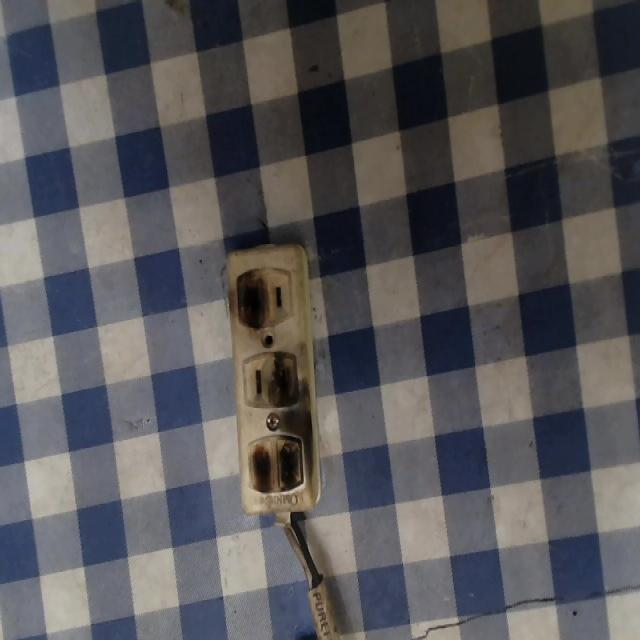-: (247, 432, 309, 497), (232, 260, 273, 339), (262, 348, 300, 412)
